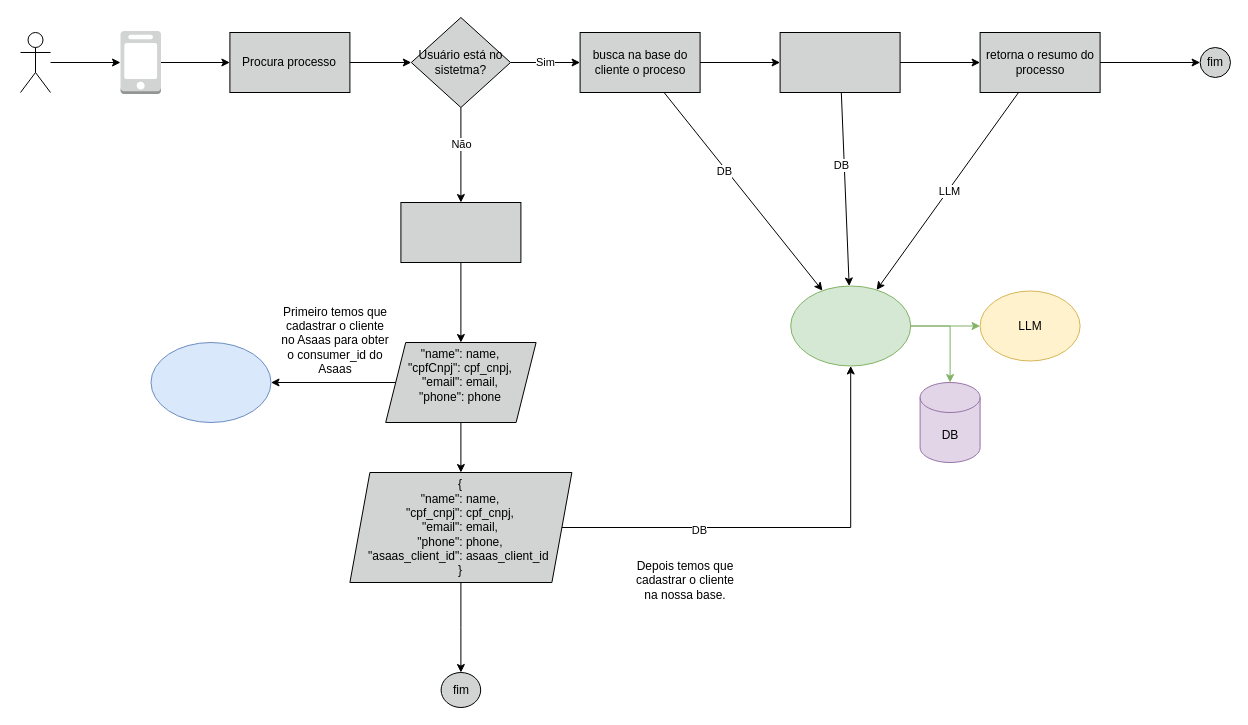
The diagram is 1248 pixels wide and 725 high, and some of its shapes have lost their labels. Each missing label, with the centre of its shape:
API Asaas: (x=210, y=382)
API Wizards: (x=850, y=325)
Cliente: (x=35, y=62)
diminui um crédito: (x=839, y=62)
iniciar fluxo de cadastro: (x=460, y=232)
